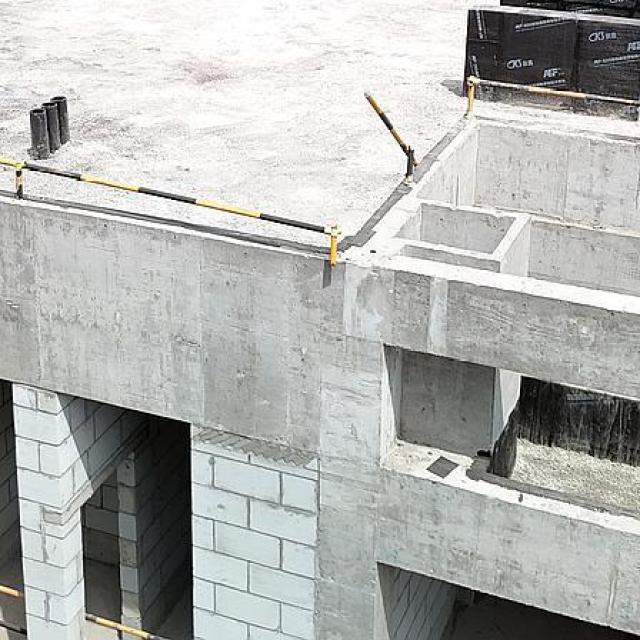Guardrail: (0, 155, 341, 268), (465, 76, 640, 113), (362, 90, 419, 179), (84, 610, 169, 640), (0, 616, 29, 640), (0, 582, 27, 601)
